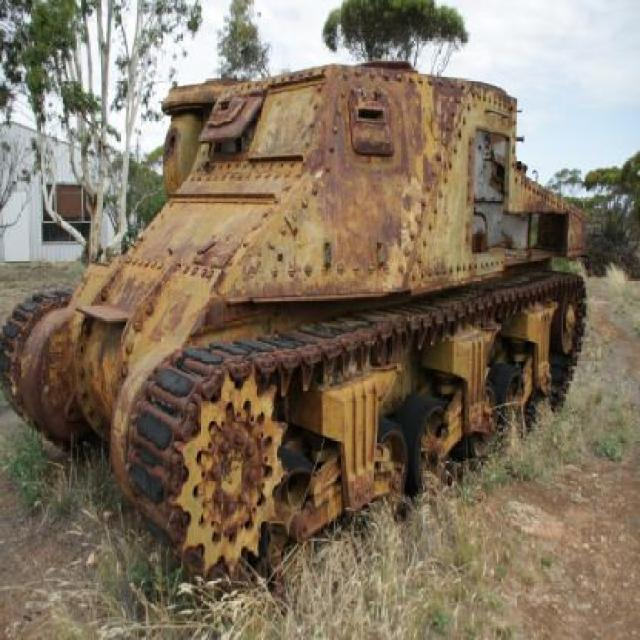corrosion: (2, 61, 590, 577)
